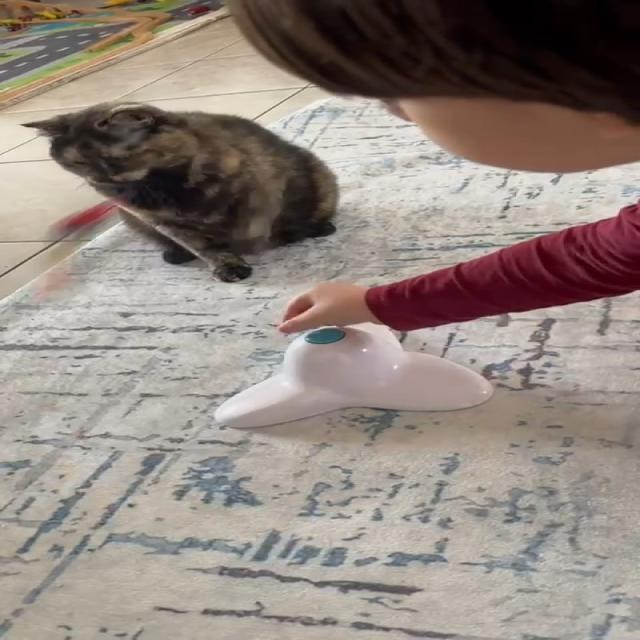authorized: (19, 100, 340, 282)
